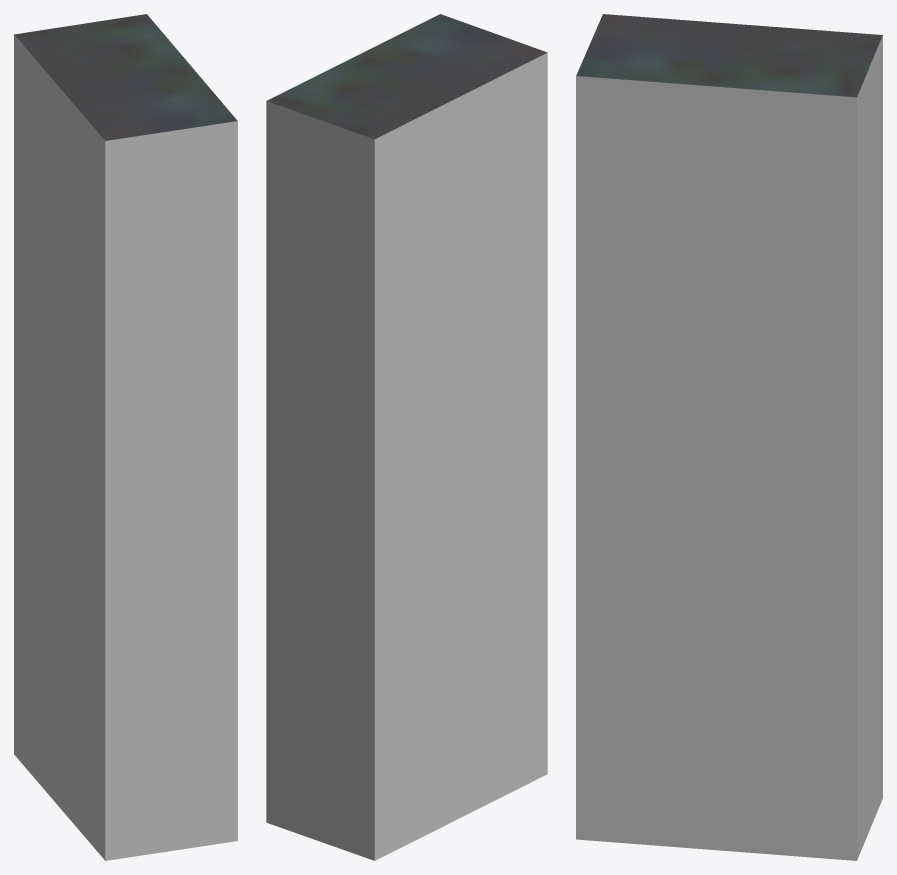
The model's file is DEBW_0010007THXE.gltf.
3 renders of one model, left to right at view 1: azimuth 30°, elevation 25°; view 2: azimuth 150°, elevation 25°; view 3: azimuth 270°, elevation 25°, orthographic. The views are drawn at different scales.
Parts seen in each view (by area): view 1: Z_UP; view 2: Z_UP; view 3: Z_UP.
Boxes of the visible parts, <box> form: Z_UP: <box>14,14,237,860</box>; Z_UP: <box>266,14,547,860</box>; Z_UP: <box>576,14,882,860</box>.
Bounding box in the file's own units: 2.06 × 8.79 × 3.2.
2 materials, 1 textured.
